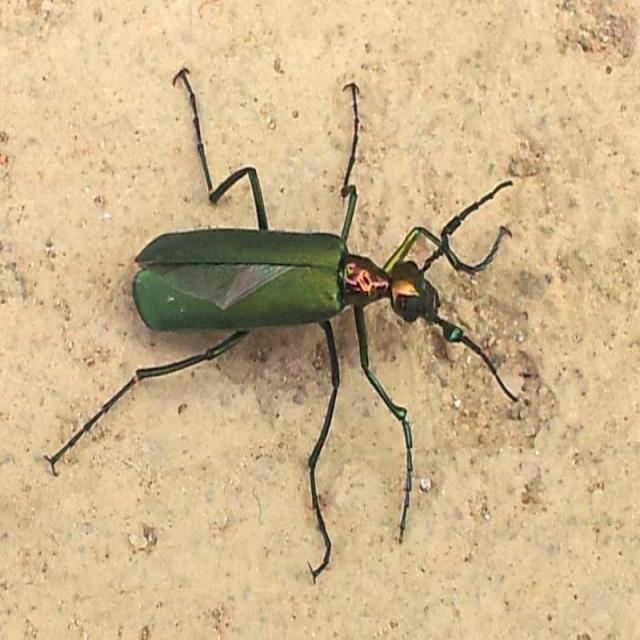BlisterBeetle-Adult-: (44, 66, 524, 565)
